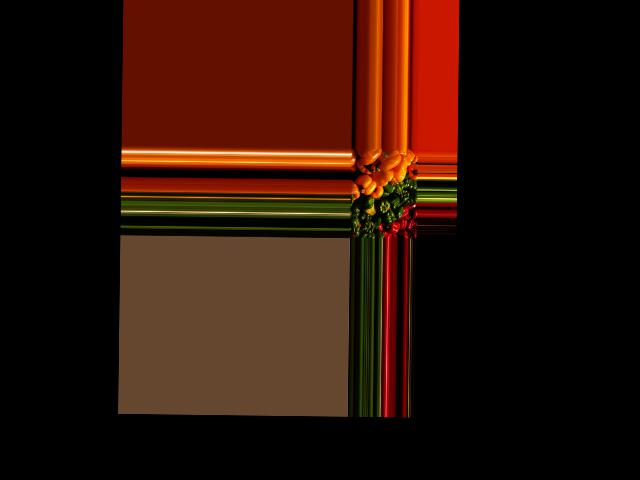bell_pepper: (348, 221, 360, 237)
